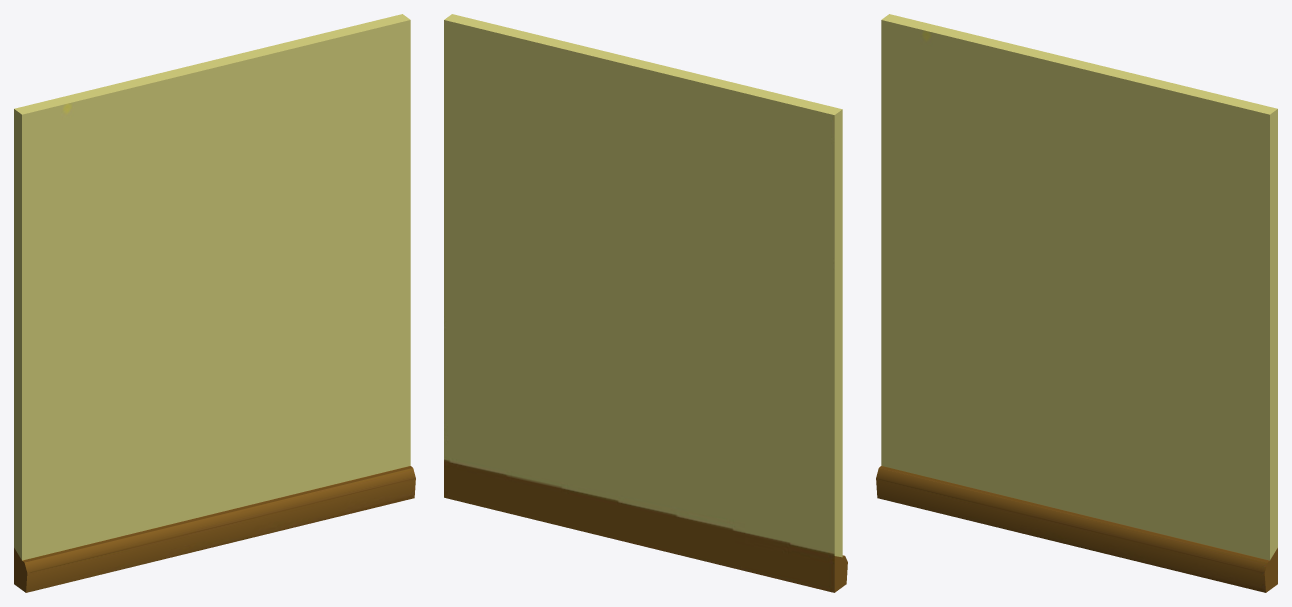
Rendered from Wall_1.fbx.
3 views of the same model, side by side, from view 1: azimuth 30°, elevation 25°; view 2: azimuth 150°, elevation 25°; view 3: azimuth 330°, elevation 25° (orthographic).
Visible parts, largest first — view 1: Wall_yellow; view 2: Wall_yellow; view 3: Wall_yellow.
Part boxes in pixels (x1,y1,x2,y2): Wall_yellow: [14, 14, 415, 592]; Wall_yellow: [444, 14, 847, 592]; Wall_yellow: [876, 14, 1277, 592].
Bounding box in the file's own units: 275 × 321 × 16.34.
Materials: 1 (1 with a texture image).
